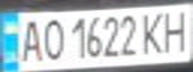1: (66, 13, 87, 60)
2: (118, 11, 142, 57), (103, 11, 124, 58)
6: (84, 12, 106, 60)
A: (15, 16, 45, 64)
H: (160, 6, 193, 53)
K: (139, 8, 169, 56)
O: (39, 15, 66, 62)
